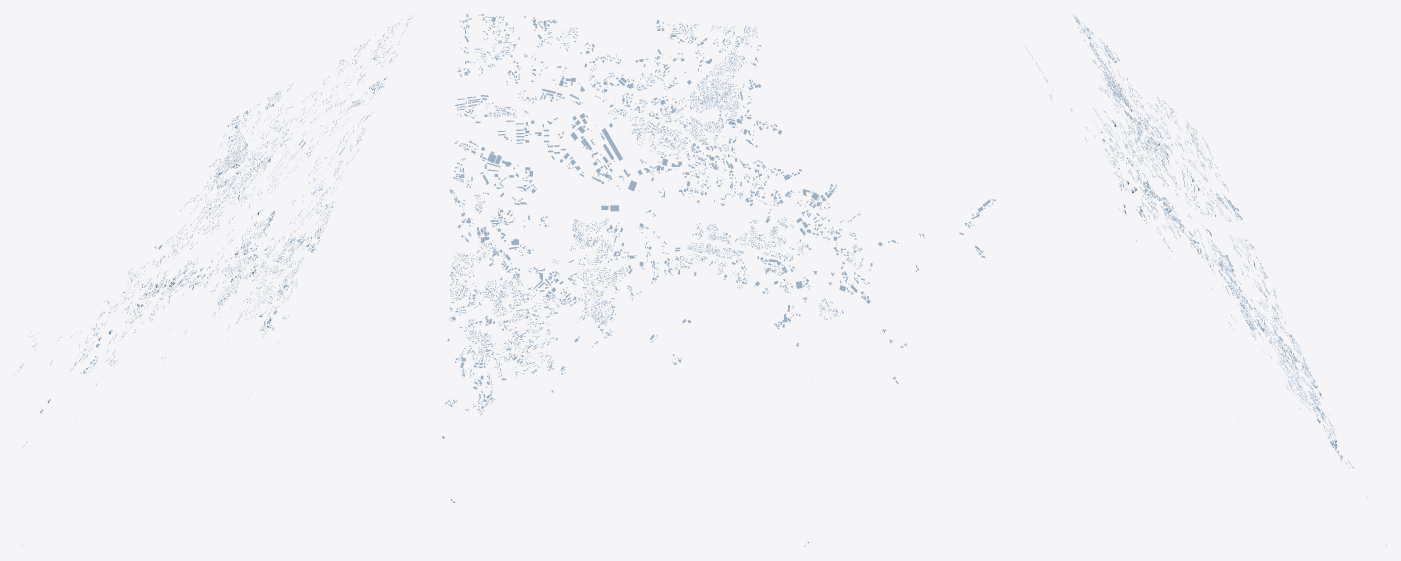
The picture shows the model from 3 angles, left to right: view 1: azimuth 30°, elevation 25°; view 2: azimuth 150°, elevation 25°; view 3: azimuth 270°, elevation 25°; orthographic projection. The views are drawn at different scales.
Visible parts, largest first — view 1: geometry_0; view 2: geometry_0; view 3: geometry_0.
Part boxes in pixels (x1,y1,x2,y2): geometry_0: [14, 14, 413, 546]; geometry_0: [442, 14, 995, 546]; geometry_0: [1025, 14, 1386, 546].
Bounding box in the file's own units: 4774 × 4391 × 3024.
